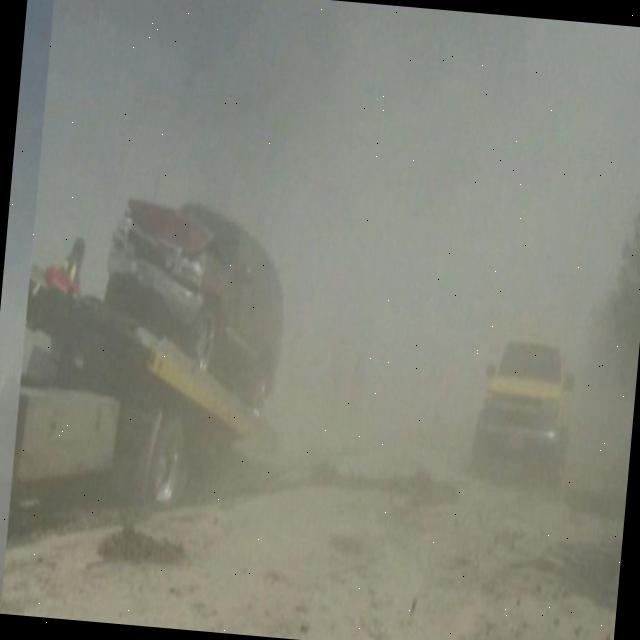bus: (0, 237, 294, 526)
car: (100, 183, 288, 390), (470, 330, 580, 480)
